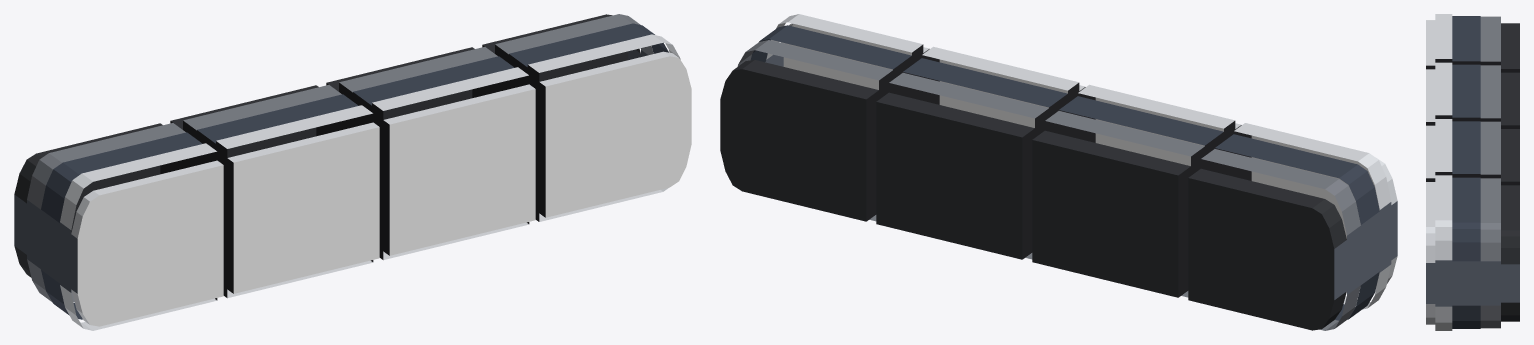
File: mrt.gltf
3 views of the same model, side by side, from view 1: azimuth 30°, elevation 25°; view 2: azimuth 150°, elevation 25°; view 3: azimuth 270°, elevation 25° (orthographic). The views are drawn at different scales.
Visible parts, largest first — view 1: mrt; view 2: mrt; view 3: mrt.
Part boxes in pixels (<box>): mrt: <box>14,14,691,330</box>; mrt: <box>720,14,1397,330</box>; mrt: <box>1426,14,1519,330</box>.
Bounding box in the file's own units: 22.4 × 5.2 × 4.
Materials: 1 (1 with a texture image).
